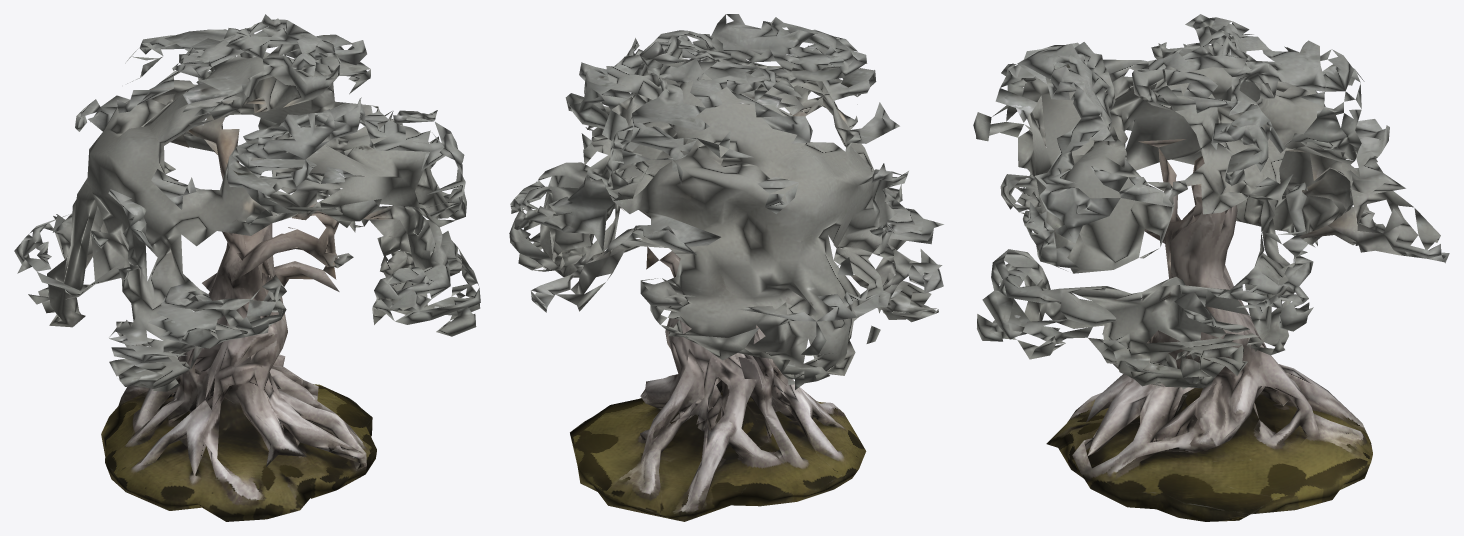
Rendered from olive.glb.
3 renders of one model, left to right at view 1: azimuth 30°, elevation 25°; view 2: azimuth 150°, elevation 25°; view 3: azimuth 270°, elevation 25°, orthographic. The views are drawn at different scales.
Parts seen in each view (by area): view 1: geometry_0; view 2: geometry_0; view 3: geometry_0.
Boxes of the visible parts, <box> form: geometry_0: <box>14,14,480,521</box>; geometry_0: <box>509,14,943,521</box>; geometry_0: <box>973,14,1449,521</box>.
Size of the model in its own units: 0.8987 by 0.9605 by 0.9359.
1 material, 1 textured.
